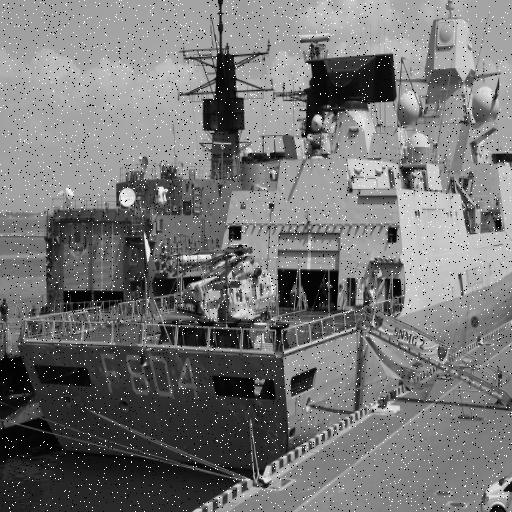Fragata: (2, 1, 512, 484)
